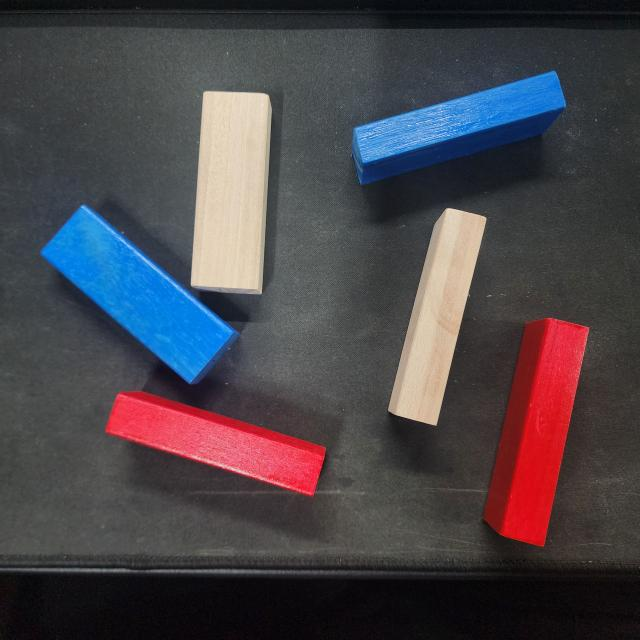blue: (37, 202, 241, 388), (345, 71, 572, 185)
red: (479, 313, 590, 547), (105, 382, 328, 498)
wood: (387, 206, 486, 428), (191, 90, 274, 295)
